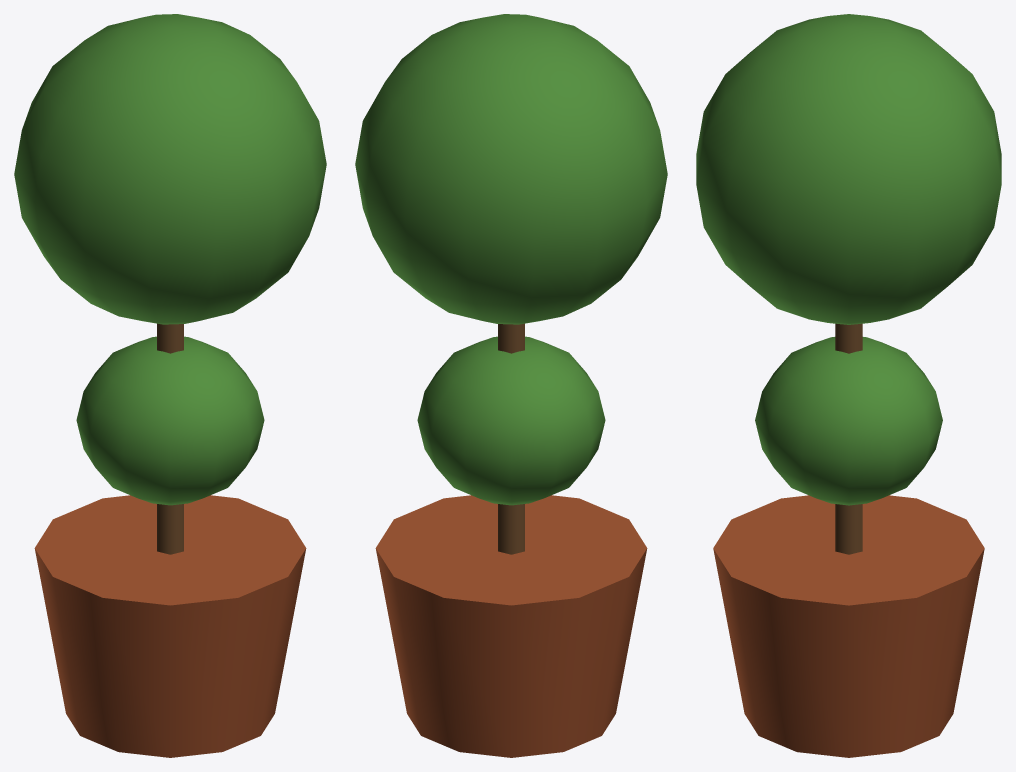
The model's file is hedge_topiary.glb.
The picture shows the model from 3 angles, left to right: view 1: azimuth 30°, elevation 25°; view 2: azimuth 150°, elevation 25°; view 3: azimuth 270°, elevation 25°; orthographic projection.
Visible parts, largest first — view 1: topiary; view 2: topiary; view 3: topiary.
Part boxes in pixels (<box>): topiary: <box>14,14,326,757</box>; topiary: <box>355,14,667,757</box>; topiary: <box>696,14,1001,757</box>.
Size of the model in its own units: 0.6 by 1.45 by 0.585.
